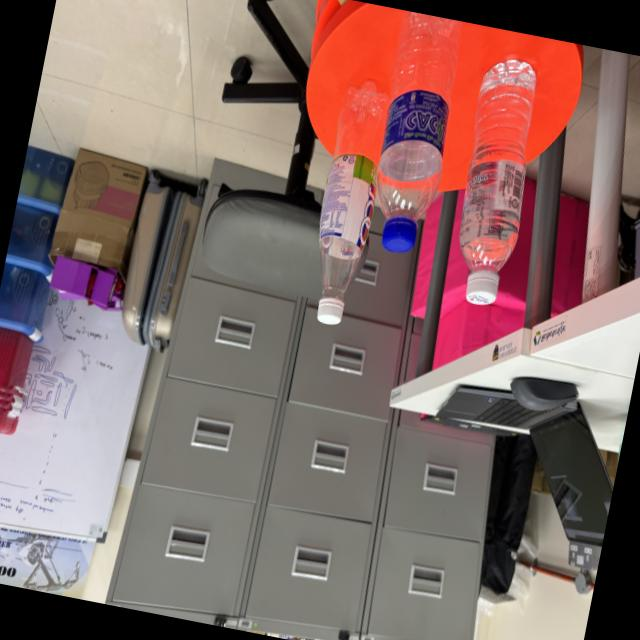plastic_bottle: (431, 37, 562, 328), (291, 62, 416, 346), (351, 10, 474, 274)
